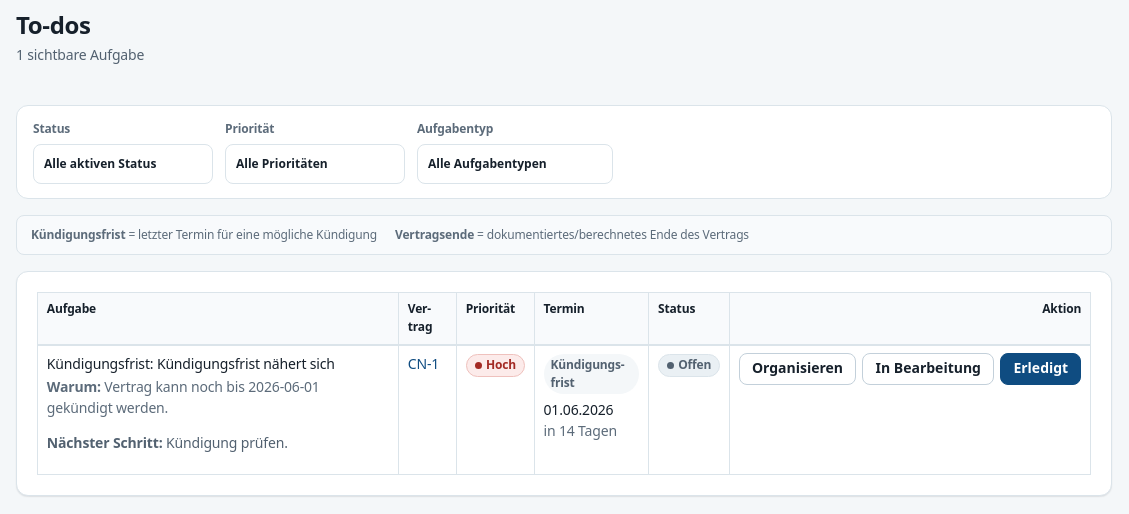
Test case: To-dos (PR-4 / FE-09) › übernimmt einen offenen Punkt (acknowledged) per PATCH
Click the button "In Bearbeitung" at (928, 369), box [862,353,994,385]
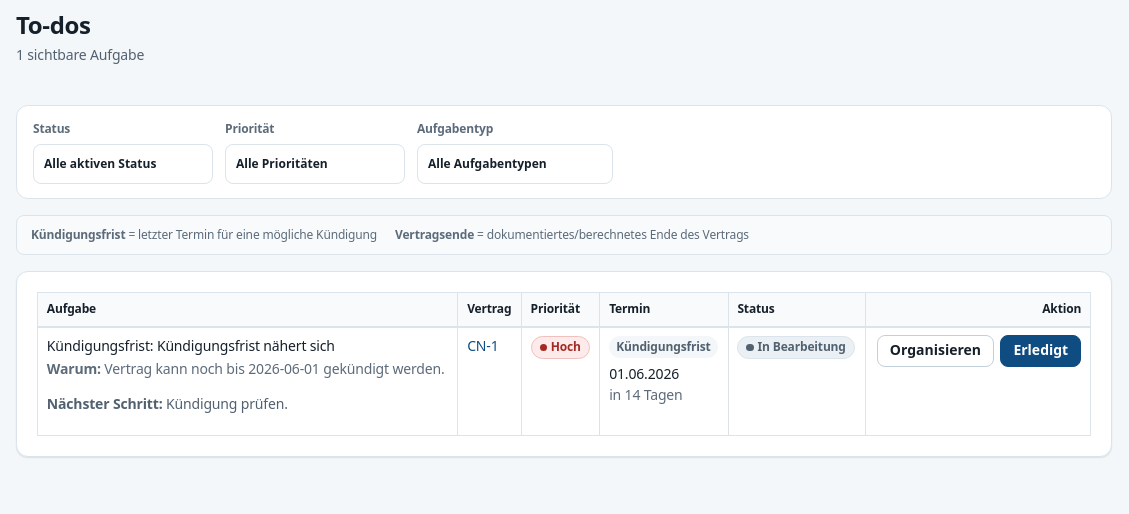
expect the text "In Bearbeitung" is shown: met, box [737,336,855,359]
